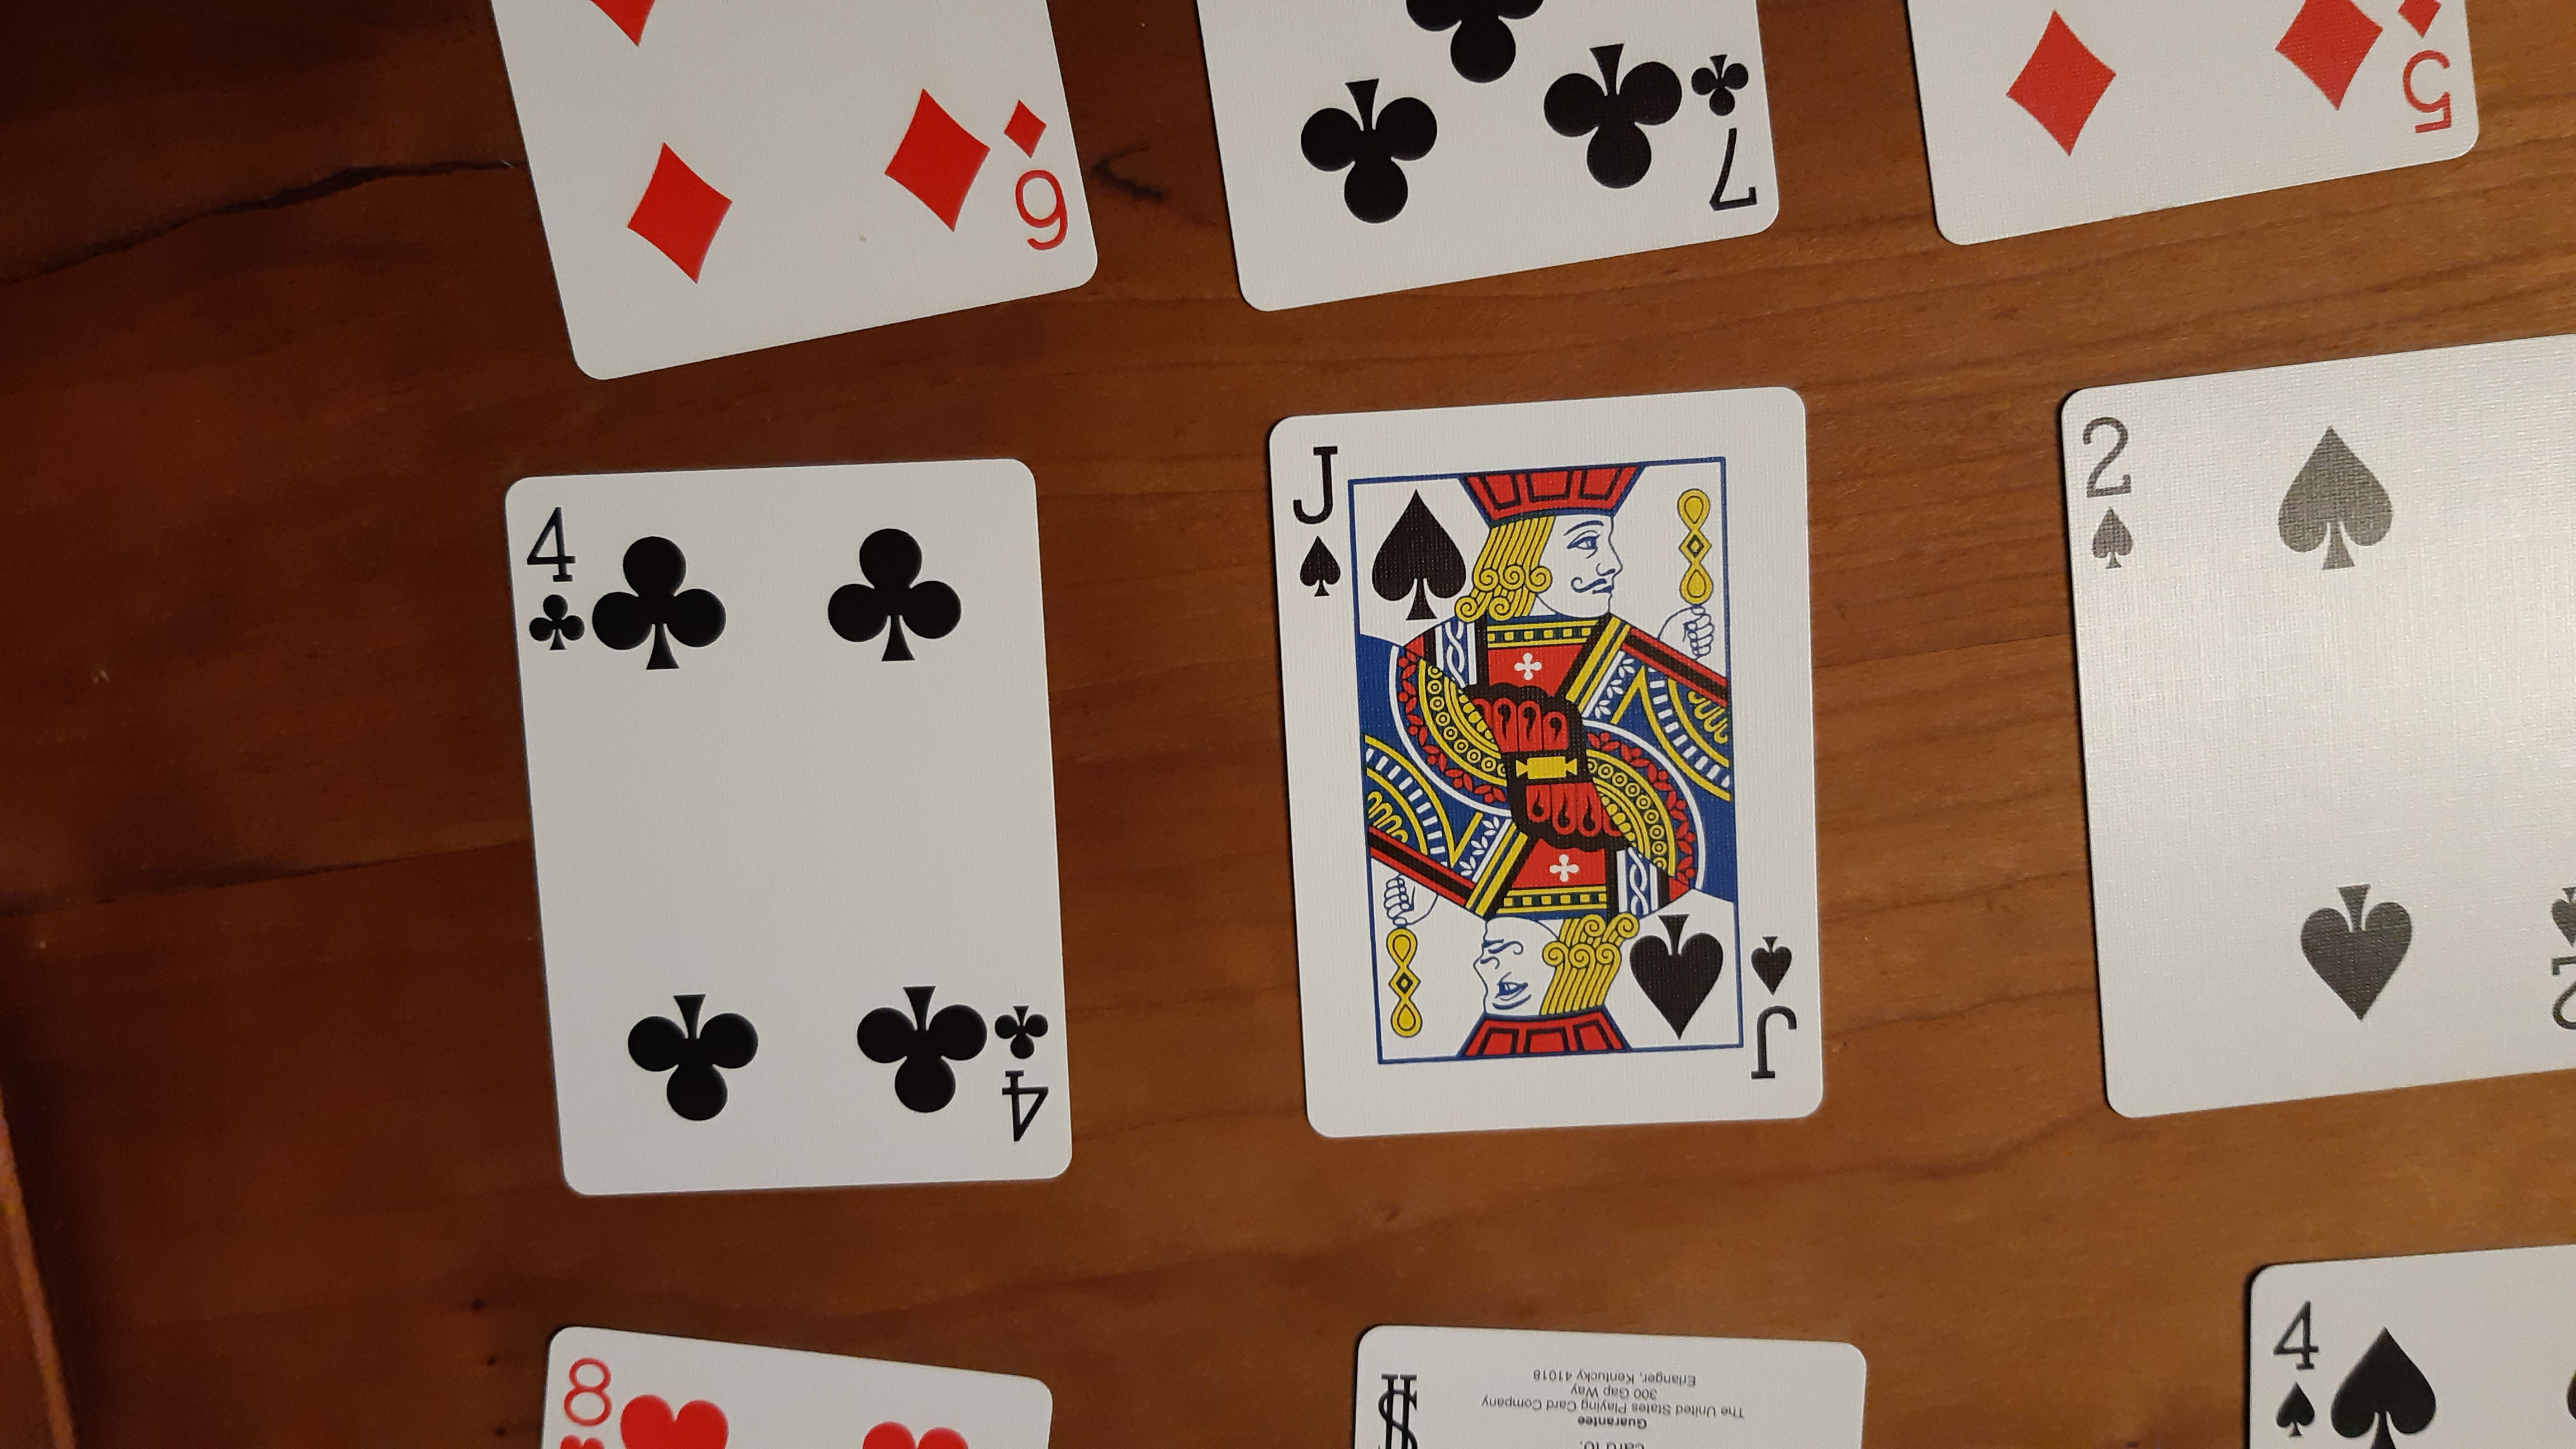Black_Club_4: (518, 501, 589, 658), (989, 994, 1058, 1152)
Black_Club_7: (1688, 44, 1771, 223)
Black_Spade_2: (2070, 409, 2146, 582), (2544, 879, 2576, 1042)
Black_Spade_4: (2259, 1293, 2330, 1442)
Black_Spade_Jack: (1734, 927, 1813, 1092), (1286, 439, 1350, 605)
Red_Diamond_5: (2390, 4, 2461, 136)
Red_Heart_8: (550, 1353, 985, 1449)
